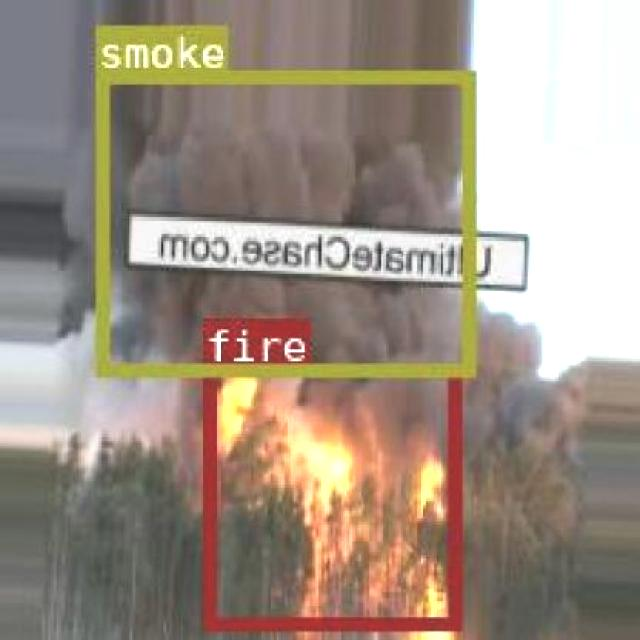fire: (202, 363, 458, 628)
smoke: (94, 71, 472, 372)
